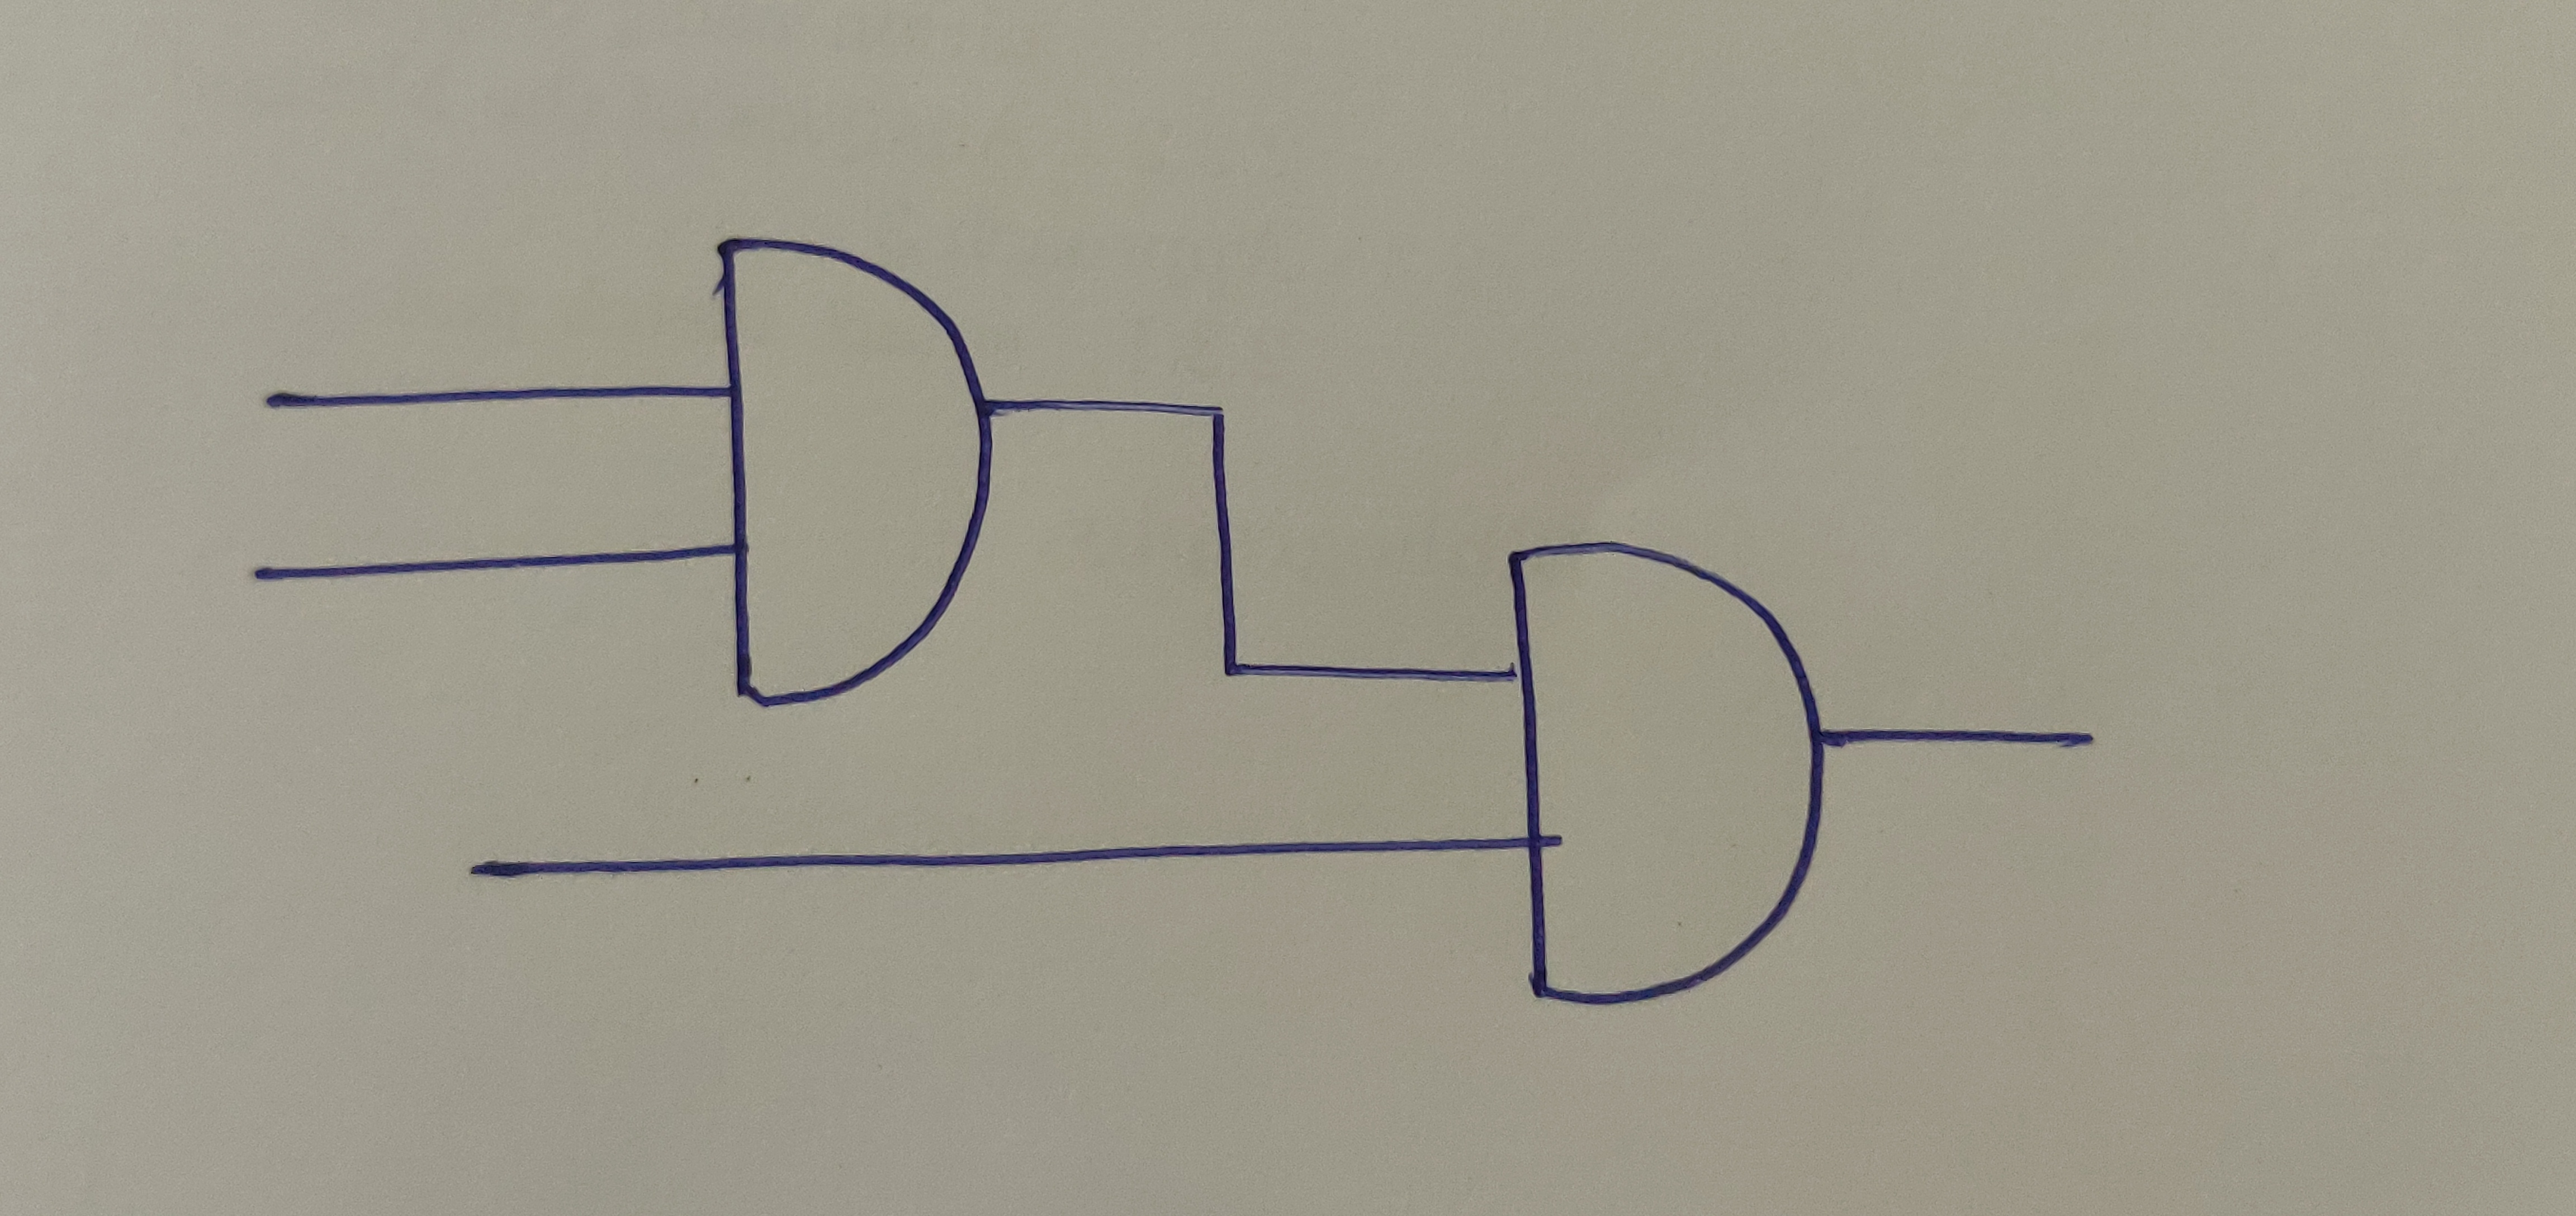and: (1507, 537, 1827, 1004), (715, 233, 1001, 707)
